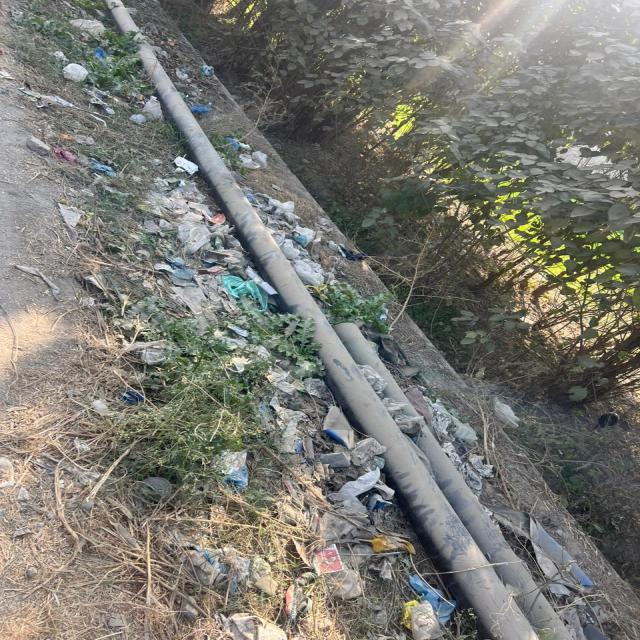garbage: (116, 174, 406, 521), (55, 0, 206, 117)
